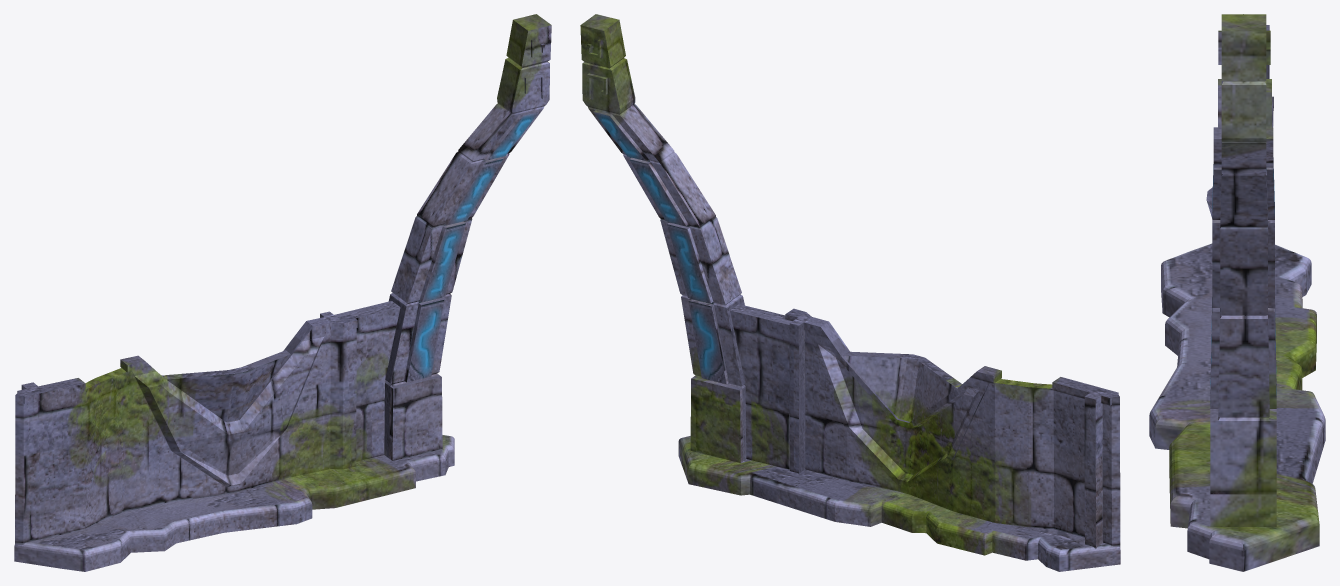
3 views of the same model, side by side, from view 1: azimuth 30°, elevation 25°; view 2: azimuth 150°, elevation 25°; view 3: azimuth 270°, elevation 25° (orthographic). The views are drawn at different scales.
Bounding box in the file's own units: 17.78 × 13.23 × 3.49.
Materials: 1 (1 with a texture image).
